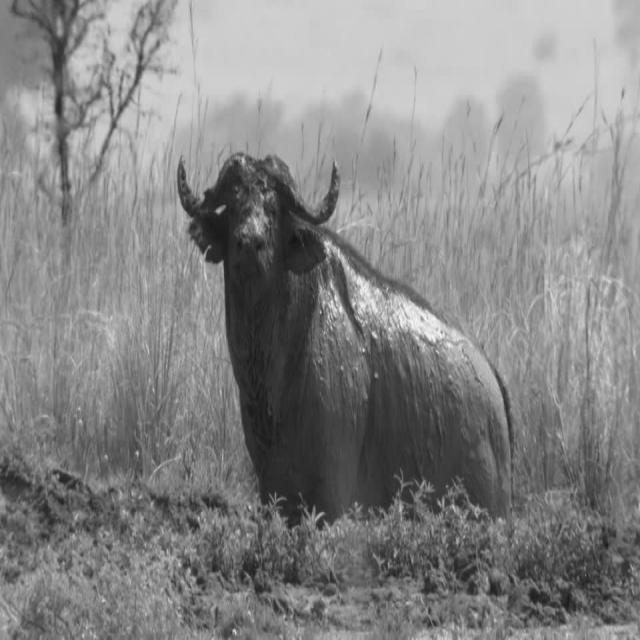Buffalo: (175, 153, 518, 534)
